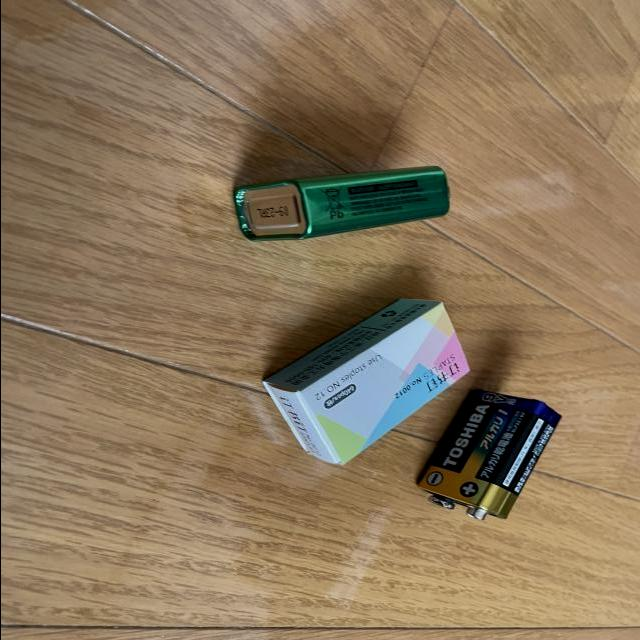9V: (416, 389, 562, 522), (232, 166, 451, 242)
